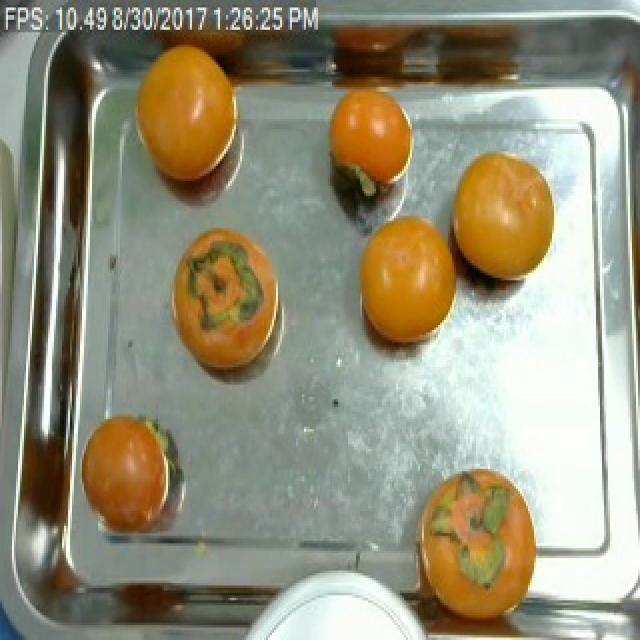Fruit: (398, 454, 548, 635), (162, 218, 286, 384), (122, 38, 250, 198), (440, 142, 562, 296), (350, 201, 464, 360), (78, 402, 188, 546), (316, 84, 424, 204)
